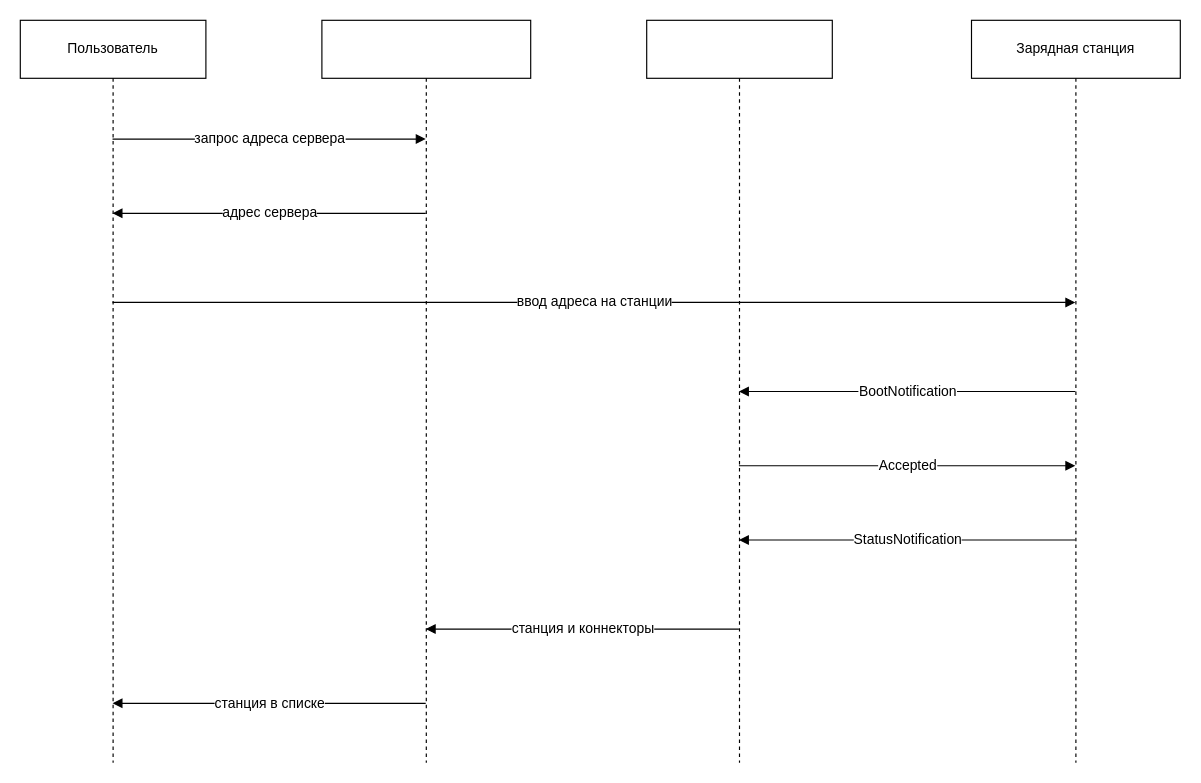
The diagram is 1201 pixels wide and 783 high, and some of its shapes have lost their labels. The box of each missing label's shape, as (x1, y1, x2, y2) in pixels:
Мобильное приложение: (321, 19, 531, 763)
Сервер: (646, 19, 832, 763)
